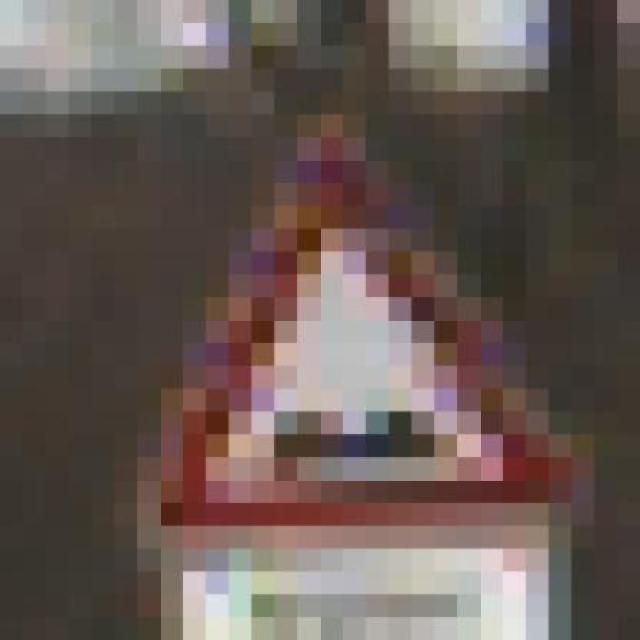Uneven Road: (137, 114, 617, 549)
